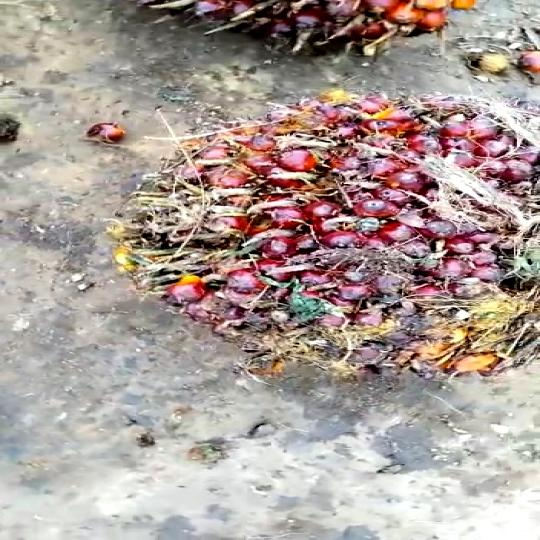masak: (102, 100, 540, 390)
